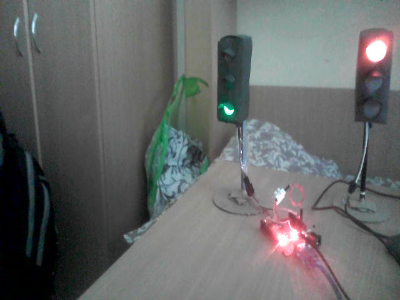trafficlight_green: (216, 37, 247, 123)
trafficlight_red: (353, 33, 392, 122)
